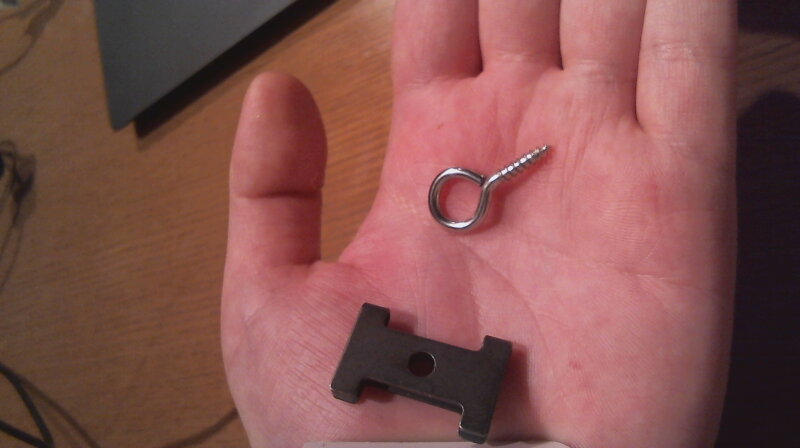O001: (421, 141, 557, 238)
O002: (327, 300, 519, 438)
